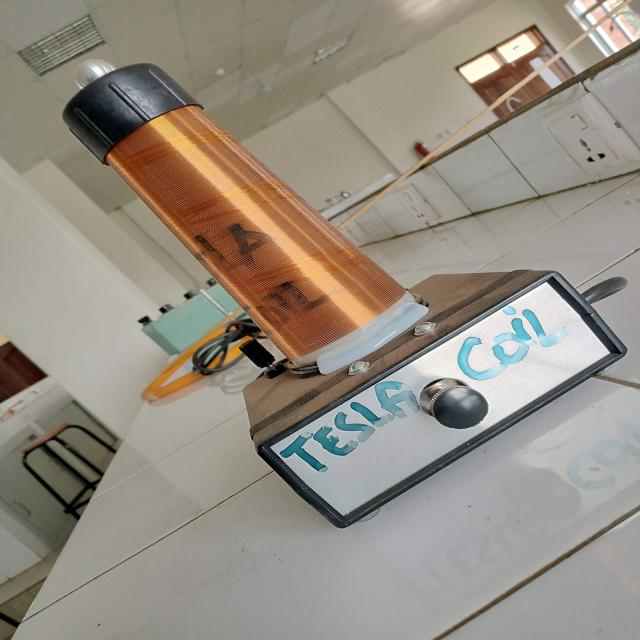Tesla Coil: (42, 41, 635, 528)
